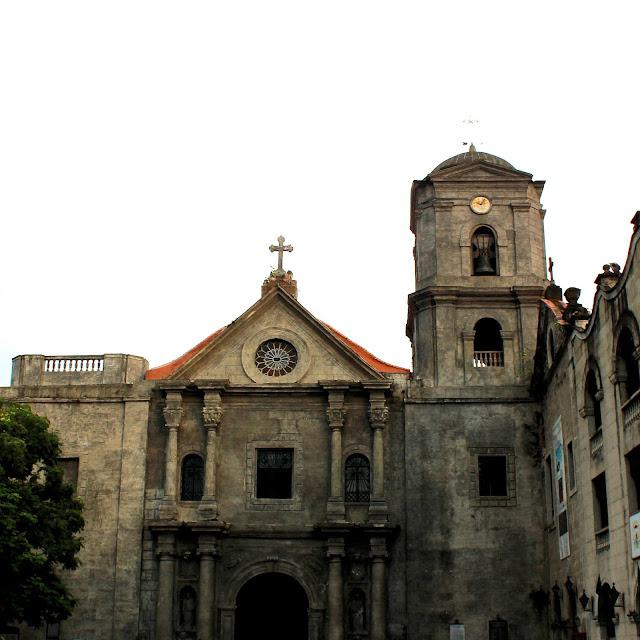san_agustin_church_intramuros_manila: (140, 121, 559, 640)
